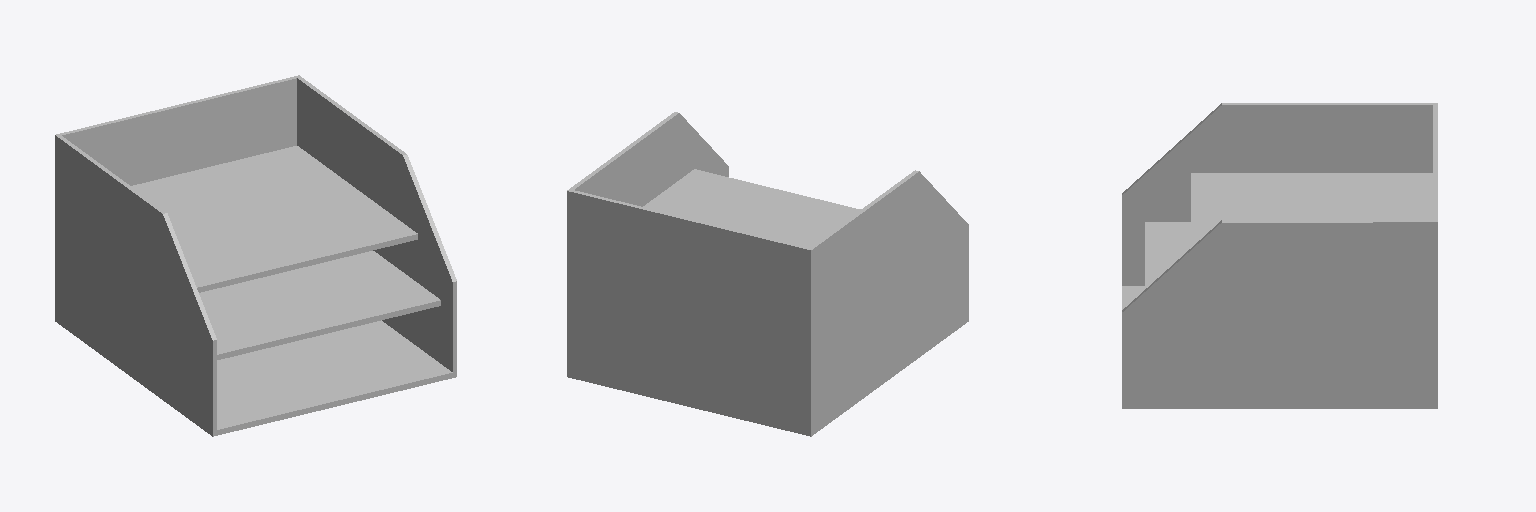
File: paper box.obj
3 renders of one model, left to right at view 1: azimuth 30°, elevation 25°; view 2: azimuth 150°, elevation 25°; view 3: azimuth 270°, elevation 25°, orthographic.
Parts seen in each view (by area): view 1: Paper_box; view 2: Paper_box; view 3: Paper_box.
Part boxes in pixels (x1,y1,x2,y2): Paper_box: (55,75,456,436); Paper_box: (567,112,968,436); Paper_box: (1122,103,1437,408).
Size of the model in its own units: 36.34 by 26.44 by 40.65.